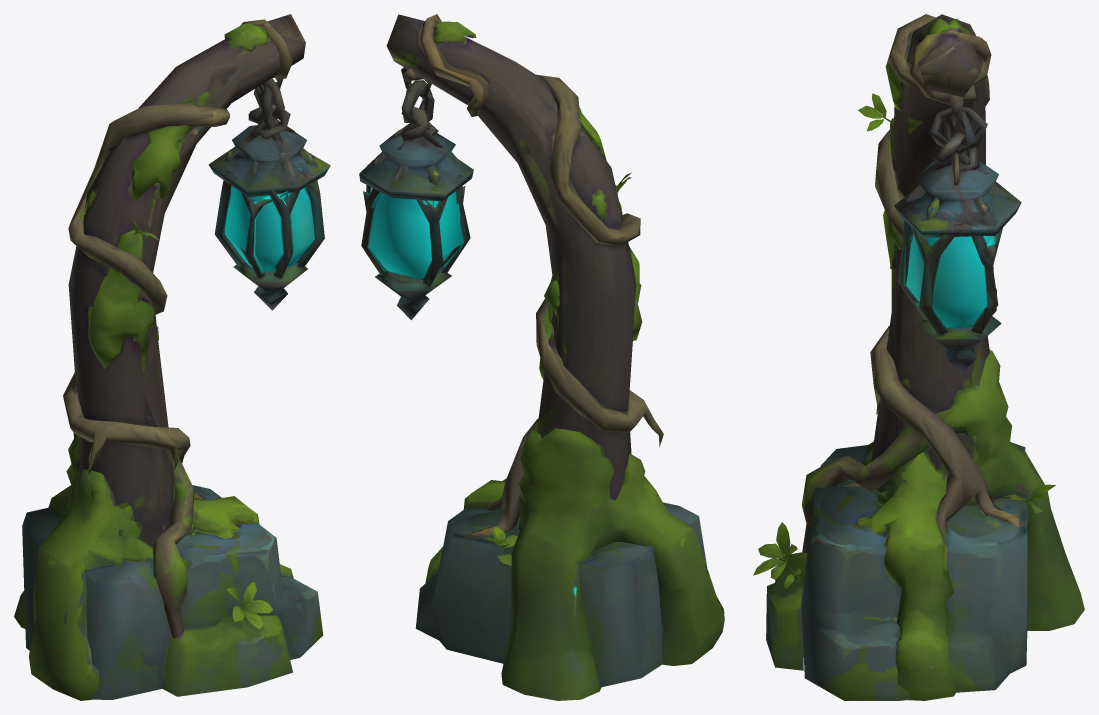
File: Lantern_LOD1.fbx
The picture shows the model from 3 angles, left to right: view 1: azimuth 30°, elevation 25°; view 2: azimuth 150°, elevation 25°; view 3: azimuth 270°, elevation 25°; orthographic projection. The views are drawn at different scales.
Visible parts, largest first — view 1: Lantern_LOD1; view 2: Lantern_LOD1; view 3: Lantern_LOD1.
Boxes of the visible parts, x1,y1,x2,y2 form: Lantern_LOD1: (14,14,330,700); Lantern_LOD1: (359,14,724,700); Lantern_LOD1: (753,14,1084,700).
Bounding box in the file's own units: 1.74 × 3.21 × 1.45.
